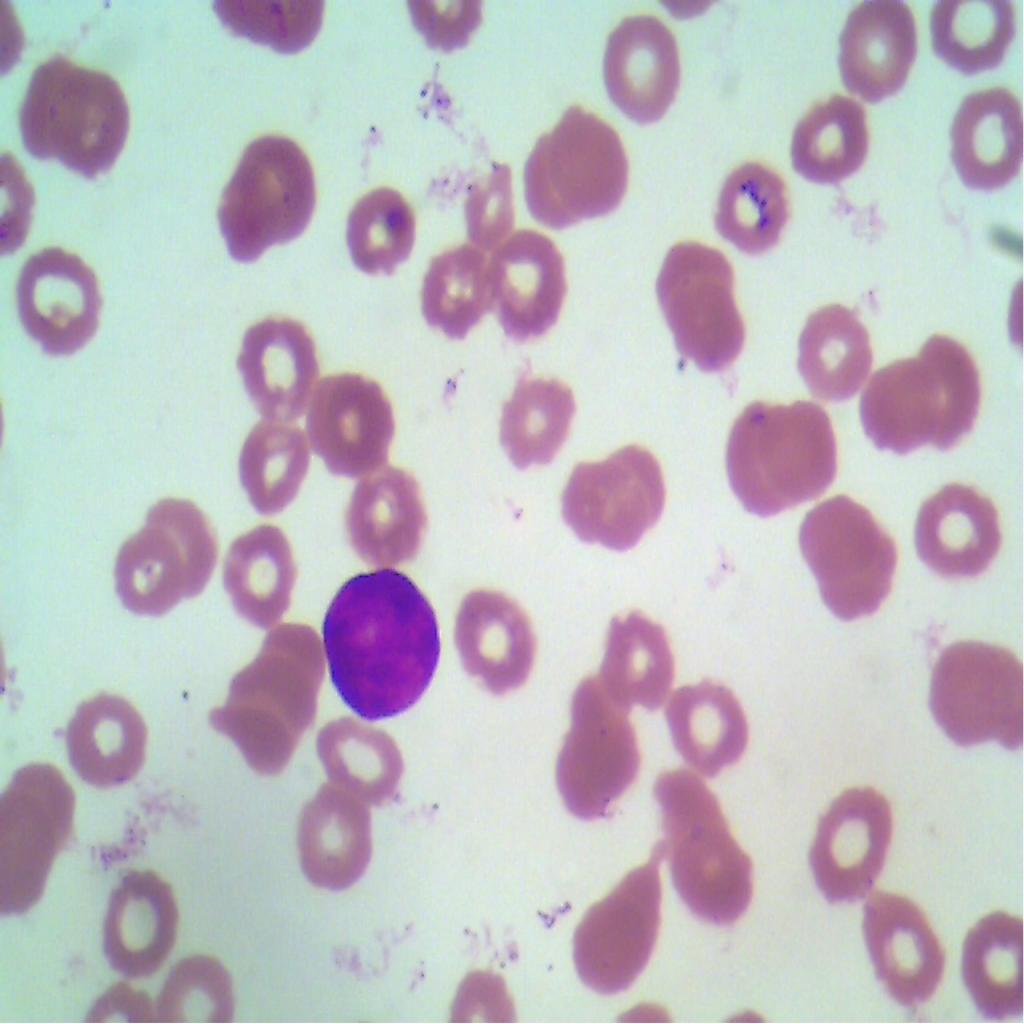Eritrosit: (795, 474, 903, 636), (723, 382, 846, 517), (211, 124, 326, 266), (522, 101, 632, 239), (575, 856, 675, 1000), (566, 435, 671, 562), (926, 621, 1023, 758), (651, 241, 754, 368), (706, 141, 803, 264), (210, 658, 306, 782), (15, 245, 114, 365), (858, 874, 939, 1014), (226, 308, 320, 424), (786, 81, 878, 198), (564, 684, 649, 810), (810, 775, 898, 894), (61, 678, 150, 795), (828, 0, 922, 109), (456, 570, 536, 698), (298, 367, 396, 470), (603, 7, 686, 128), (908, 318, 981, 455), (672, 812, 762, 922), (589, 588, 671, 707), (788, 287, 869, 401), (486, 225, 574, 329), (50, 68, 136, 174), (916, 478, 1006, 575), (142, 488, 218, 602), (648, 764, 729, 870), (234, 407, 318, 508), (298, 785, 373, 898), (98, 870, 179, 974), (315, 710, 402, 804), (342, 180, 419, 285), (950, 88, 1024, 194), (349, 465, 428, 561), (498, 355, 566, 465), (0, 760, 76, 858), (246, 615, 318, 717), (962, 894, 1023, 1014), (673, 675, 750, 768), (109, 518, 183, 614), (224, 524, 299, 618), (926, 0, 1013, 77), (861, 358, 930, 454), (419, 230, 483, 331), (21, 58, 88, 154), (149, 947, 233, 1023), (461, 159, 513, 234)
Limfoblast: (319, 565, 444, 735)
